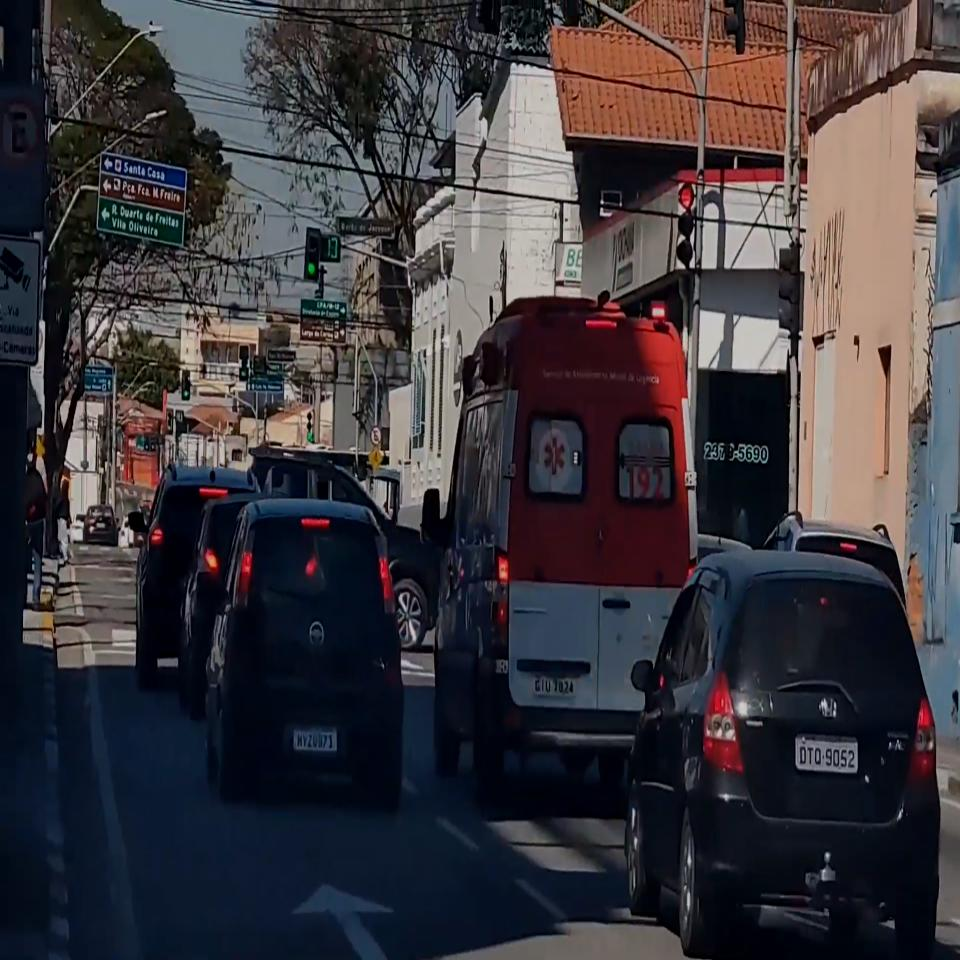viatura: (422, 293, 698, 796)
